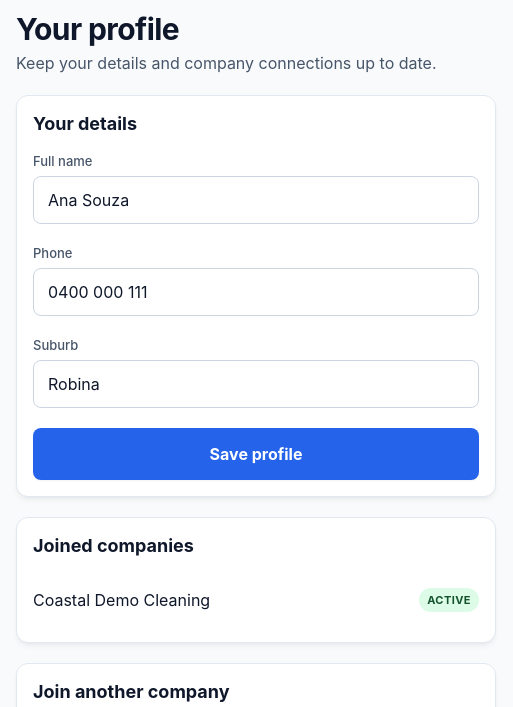
CLE-26 cleaner profile › validates the same cleaner details as the join screen before saving
The width and height of the screenshot is (513, 707).
Clear the field labelled "Full name" at x=256, y=200, box x1=33 y1=176 x2=479 y2=224
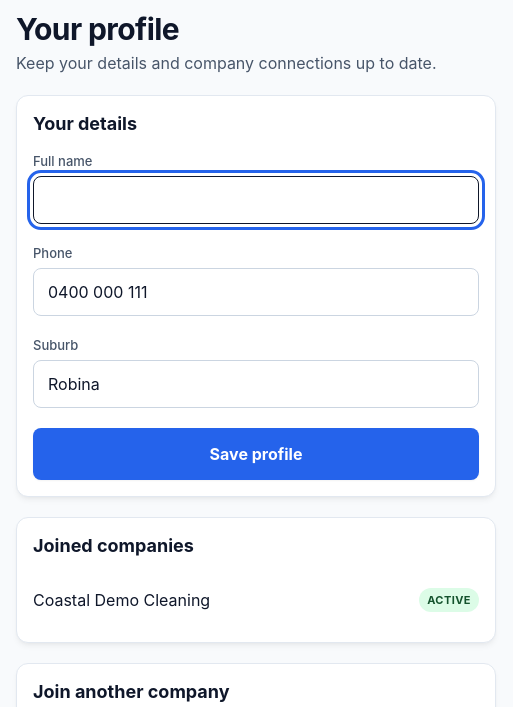
Click the button "Save profile".
click(256, 454)  # box x1=33 y1=428 x2=479 y2=480
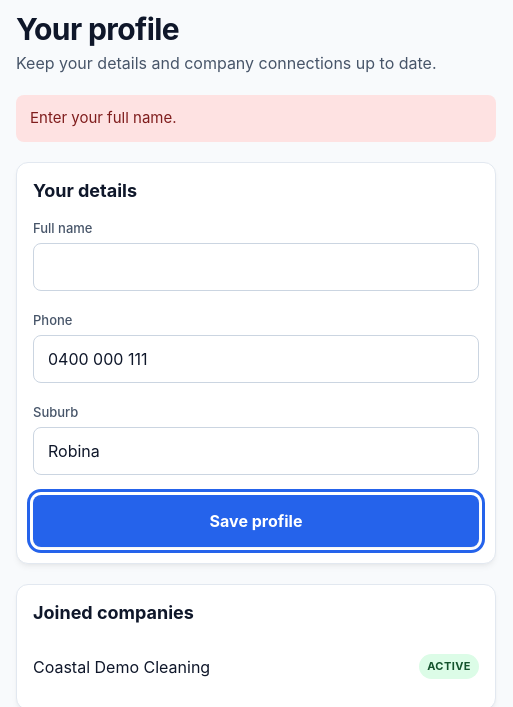
Expected: the message reads "Enter your full name.", x1=30 y1=108 x2=176 y2=127
